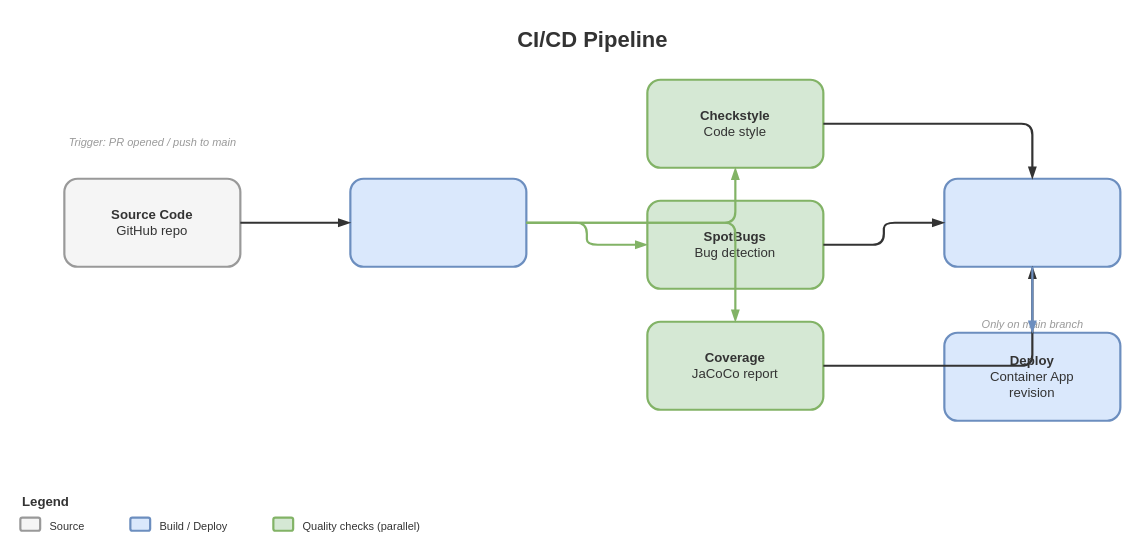
Image size: 1140x552. Some labels were removed from this diagram. Here are the shapes that lost their labels. From the top down, the centre of each, then its label:
At point (438, 222): "Build mvn compile + unit tests".
At point (1032, 222): "Docker Image Build & Push to ACR".
